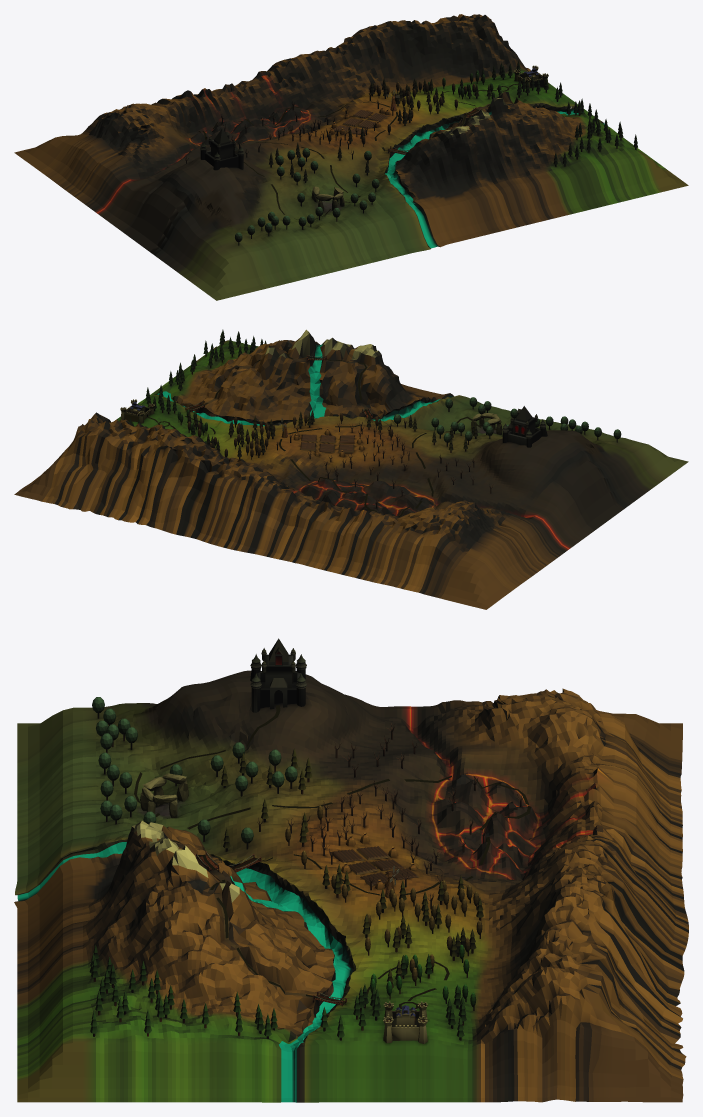
Rendered from MiniMapNewBaked8.fbx.
The picture shows the model from 3 angles, top to bottom: view 1: azimuth 30°, elevation 25°; view 2: azimuth 150°, elevation 25°; view 3: azimuth 270°, elevation 25°; orthographic projection. The views are drawn at different scales.
Visible parts, largest first — view 1: Landscape.009, Landscape.001, Plane; view 2: Landscape.009, Plane, Landscape.002, Landscape.001; view 3: Landscape.009, Landscape.001, Plane.
Part boxes in pixels (bbox=[...]): Landscape.009: bbox=[14, 14, 688, 300]; Landscape.001: bbox=[385, 109, 608, 248]; Plane: bbox=[198, 83, 521, 219]; Landscape.009: bbox=[14, 329, 688, 609]; Plane: bbox=[147, 353, 502, 517]; Landscape.002: bbox=[308, 344, 325, 418]; Landscape.001: bbox=[157, 391, 452, 426]; Landscape.009: bbox=[14, 638, 688, 1102]; Landscape.001: bbox=[17, 842, 353, 1102]; Plane: bbox=[134, 705, 530, 1004].
Size of the model in its own units: 352 by 66.37 by 265.
